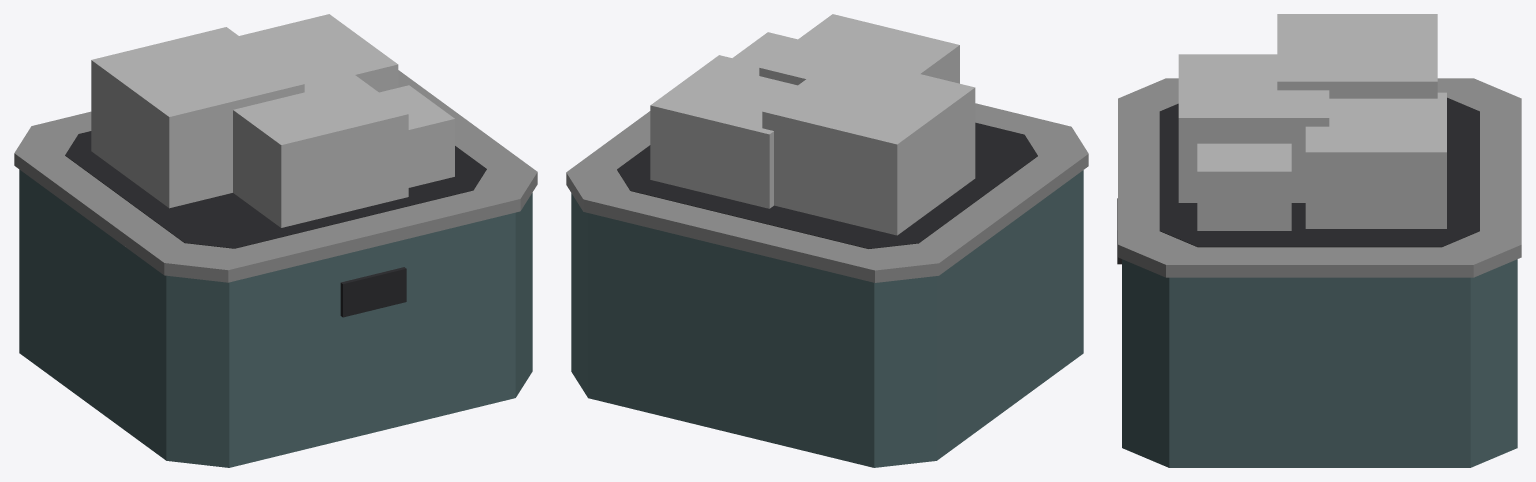
File: vge_spacer_box_steel.obj
3 renders of one model, left to right at view 1: azimuth 30°, elevation 25°; view 2: azimuth 150°, elevation 25°; view 3: azimuth 270°, elevation 25°, orthographic. The views are drawn at different scales.
Visible parts, largest first — view 1: vge_spacer_box_steel_0, vge_spacer_box_steel_4, vge_spacer_box_steel_1, vge_spacer_box_steel_6, vge_spacer_box_steel_2, vge_spacer_box_steel_5, vge_spacer_box_steel_7, vge_spacer_box_steel_3; view 2: vge_spacer_box_steel_0, vge_spacer_box_steel_4, vge_spacer_box_steel_1, vge_spacer_box_steel_5, vge_spacer_box_steel_2, vge_spacer_box_steel_6, vge_spacer_box_steel_7; view 3: vge_spacer_box_steel_0, vge_spacer_box_steel_1, vge_spacer_box_steel_5, vge_spacer_box_steel_6, vge_spacer_box_steel_4, vge_spacer_box_steel_2, vge_spacer_box_steel_7.
Part boxes in pixels (<box>): vge_spacer_box_steel_0: <box>19,169,532,467</box>; vge_spacer_box_steel_4: <box>91,27,304,208</box>; vge_spacer_box_steel_1: <box>14,70,537,282</box>; vge_spacer_box_steel_6: <box>233,60,408,227</box>; vge_spacer_box_steel_2: <box>65,131,486,248</box>; vge_spacer_box_steel_5: <box>239,14,398,92</box>; vge_spacer_box_steel_7: <box>379,85,454,187</box>; vge_spacer_box_steel_3: <box>340,267,406,317</box>; vge_spacer_box_steel_0: <box>571,170,1083,467</box>; vge_spacer_box_steel_4: <box>762,54,975,235</box>; vge_spacer_box_steel_1: <box>566,103,1088,282</box>; vge_spacer_box_steel_5: <box>650,55,797,208</box>; vge_spacer_box_steel_2: <box>617,122,1037,248</box>; vge_spacer_box_steel_6: <box>759,14,959,85</box>; vge_spacer_box_steel_7: <box>732,32,797,65</box>; vge_spacer_box_steel_0: <box>1122,259,1517,467</box>; vge_spacer_box_steel_1: <box>1118,78,1521,277</box>; vge_spacer_box_steel_5: <box>1305,92,1446,228</box>; vge_spacer_box_steel_6: <box>1178,54,1329,202</box>; vge_spacer_box_steel_4: <box>1277,14,1437,98</box>; vge_spacer_box_steel_2: <box>1159,97,1479,247</box>; vge_spacer_box_steel_7: <box>1197,143,1291,230</box>.
Size of the model in its own units: 0.9384 by 0.7 by 0.8584.
